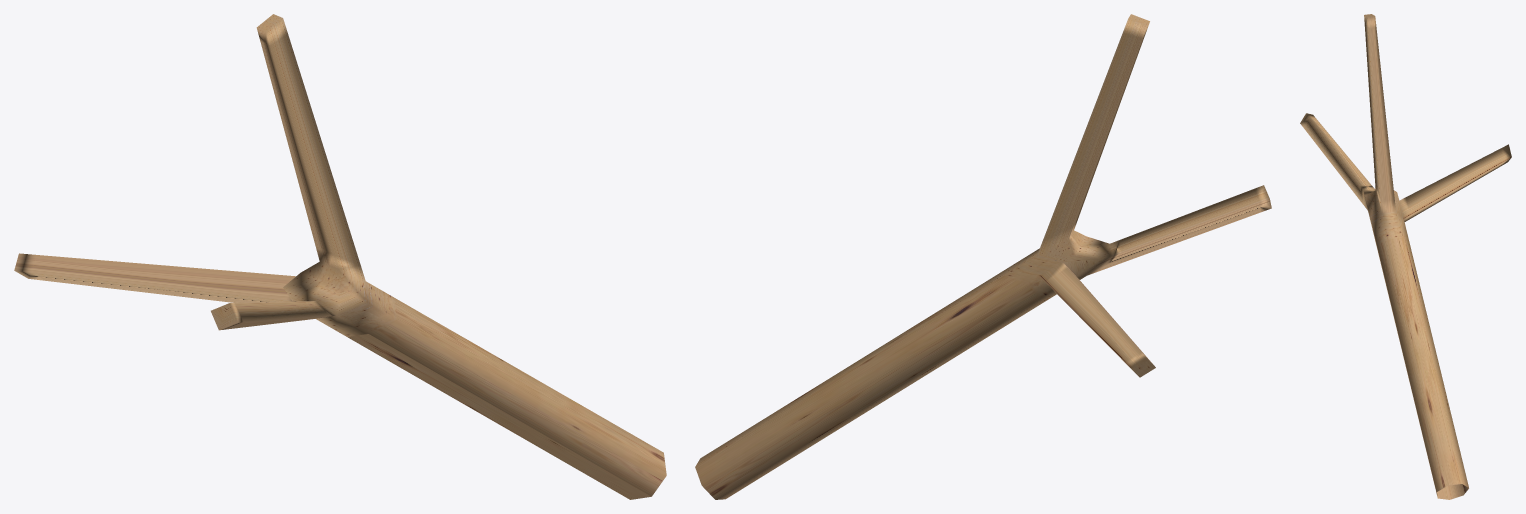
Rendered from brazo2.obj.
3 renders of one model, left to right at view 1: azimuth 30°, elevation 25°; view 2: azimuth 150°, elevation 25°; view 3: azimuth 270°, elevation 25°, orthographic. The views are drawn at different scales.
Parts seen in each view (by area): view 1: snowman:BranchR; view 2: snowman:BranchR; view 3: snowman:BranchR.
Part boxes in pixels (x1,y1,x2,y2): snowman:BranchR: (14, 14, 666, 499); snowman:BranchR: (695, 14, 1271, 499); snowman:BranchR: (1300, 14, 1511, 499).
Size of the model in its own units: 0.9403 by 0.9525 by 0.5002.
Materials: 1 (1 with a texture image).
